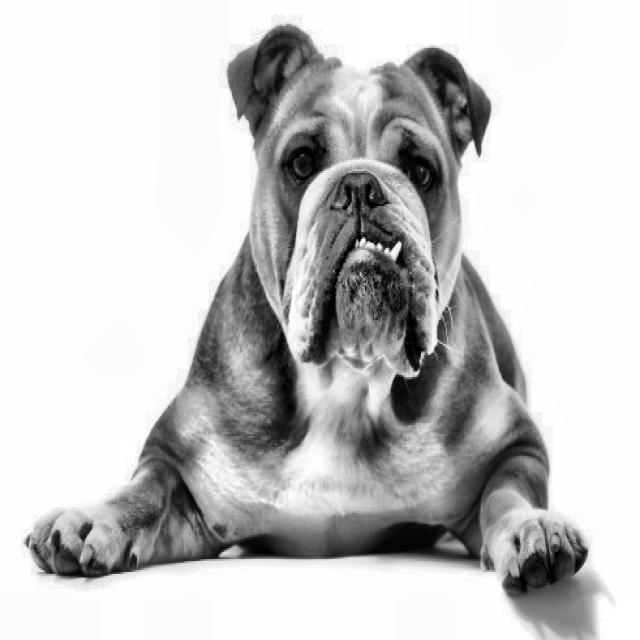bulldog: (210, 0, 493, 413)
